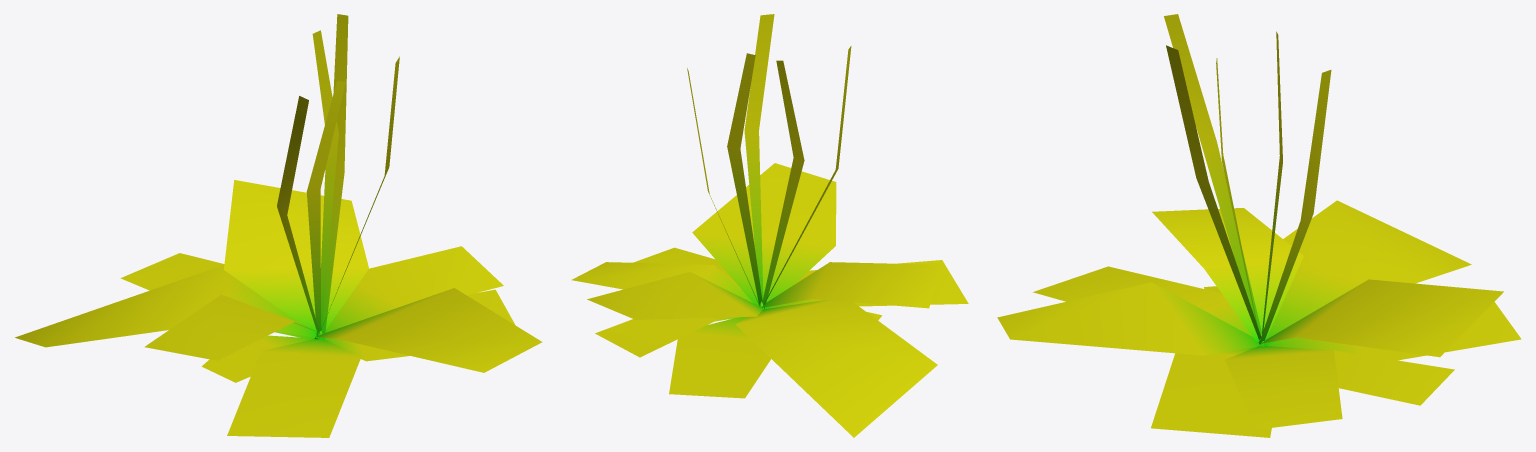
File: Broadleaf Plantain_LOD3_Var2_sfhjc.fbx
3 views of the same model, side by side, from view 1: azimuth 30°, elevation 25°; view 2: azimuth 150°, elevation 25°; view 3: azimuth 270°, elevation 25° (orthographic). The views are drawn at different scales.
Visible parts, largest first — view 1: _6b58_Var2_LOD3; view 2: _6b58_Var2_LOD3; view 3: _6b58_Var2_LOD3.
Part boxes in pixels (x1,y1,x2,y2): _6b58_Var2_LOD3: [15, 14, 542, 437]; _6b58_Var2_LOD3: [571, 14, 968, 437]; _6b58_Var2_LOD3: [997, 14, 1521, 437].
Bounding box in the file's own units: 38.65 × 28.44 × 39.6.
